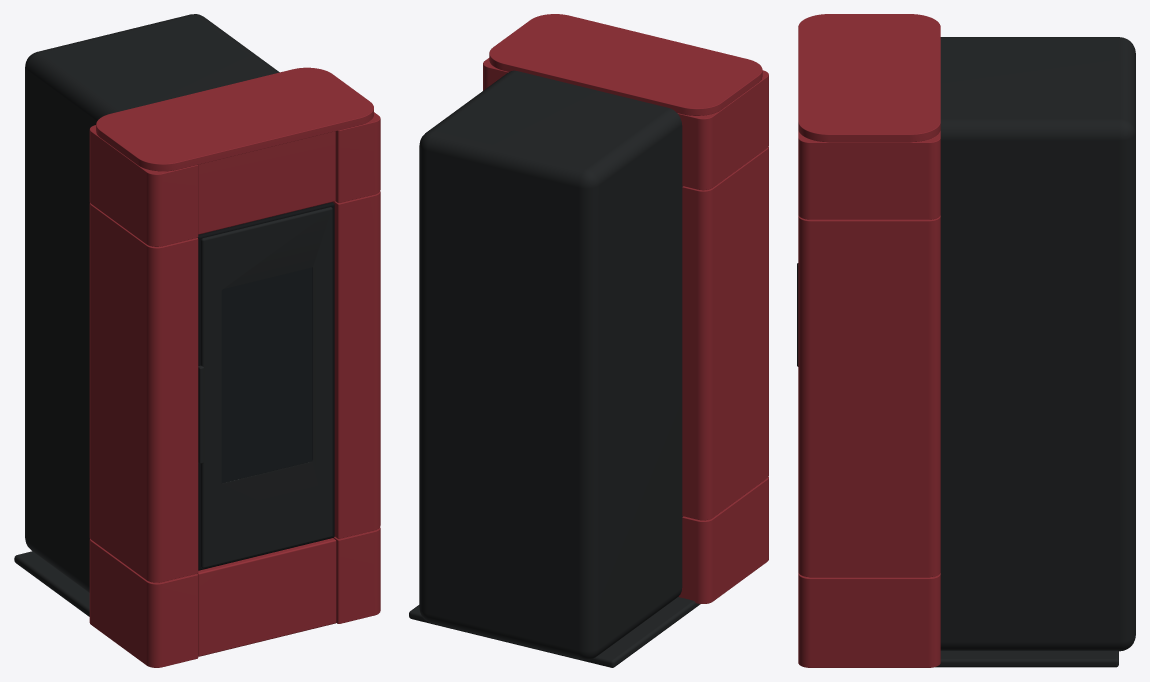
Rendered from nordica-isidora-idro-h20-50-evo-bordeaux.glb.
The picture shows the model from 3 angles, left to right: view 1: azimuth 30°, elevation 25°; view 2: azimuth 150°, elevation 25°; view 3: azimuth 270°, elevation 25°; orthographic projection. The views are drawn at different scales.
Parts seen in each view (by area): view 1: Corpo interno.002, Montante maiolica.007, Porta ghisa.002, Vetro sportello.002, Copertura superiore.002, Montante maiolica.010, Pannello inferiore.002, Maiolica superiore.002, Montante maiolica.006, Montante maiolica.008, Montante maiolica.009, Montante maiolica.011 (+3 smaller); view 2: Corpo interno.002, Montante maiolica.007, Copertura superiore.002, Montante maiolica.006, Montante maiolica.008, Zoccolo.002; view 3: Corpo interno.002, Montante maiolica.010, Copertura superiore.002, Montante maiolica.009, Montante maiolica.011, Zoccolo.002.
Boxes of the visible parts, x1,y1,x2,y2 form: Corpo interno.002: (25,14,279,592); Montante maiolica.007: (89,202,198,582); Porta ghisa.002: (201,207,332,568); Vetro sportello.002: (221,267,312,482); Copertura superiore.002: (96,67,373,171); Montante maiolica.010: (332,191,380,538); Pannello inferiore.002: (197,538,336,656); Maiolica superiore.002: (198,131,335,234); Montante maiolica.006: (89,538,198,667); Montante maiolica.008: (89,125,198,246); Montante maiolica.009: (333,527,380,623); Montante maiolica.011: (335,112,380,202); Corpo interno.002: (419,70,682,660); Montante maiolica.007: (682,146,768,520); Copertura superiore.002: (489,14,762,115); Montante maiolica.006: (678,477,768,603); Montante maiolica.008: (677,70,768,190); Zoccolo.002: (409,597,700,667); Corpo interno.002: (940,37,1135,651); Montante maiolica.010: (798,215,940,577); Copertura superiore.002: (798,14,940,142); Montante maiolica.009: (798,573,940,667); Montante maiolica.011: (798,130,940,219); Zoccolo.002: (935,650,1118,667).
Size of the model in its own units: 0.596 by 1.24 by 0.707.
